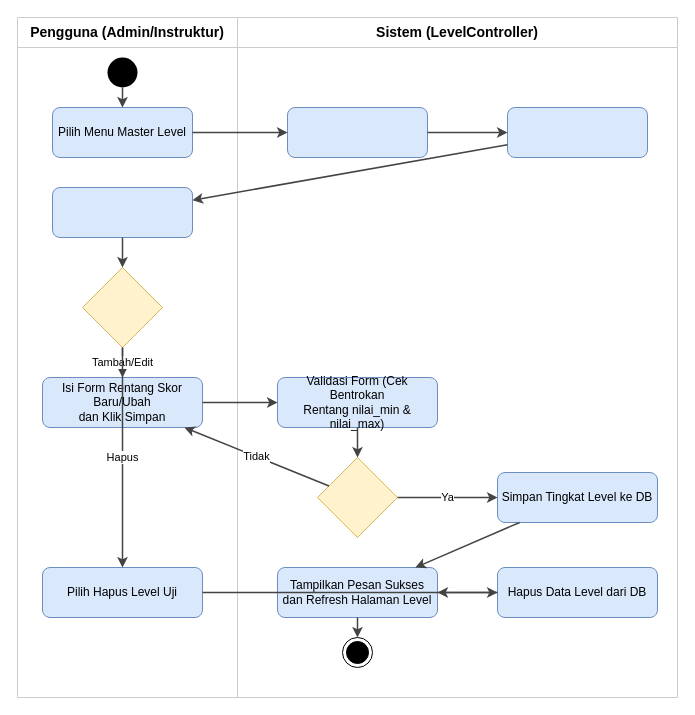
The diagram is 695 pixels wide and 715 high, and some of its shapes have lost their labels. The shapes that lost their labels are listed below. From the top down, each one's centre as x and y in pixels, then its label:
At (357,132): "Minta Daftar Data Level".
At (577,132): "Query data dari tabel `level`".
At (122,212): "Tampilkan Tabel Level Nilai".
At (122,307): "Pilih Aksi Level?".
At (357,497): "Valid?".
